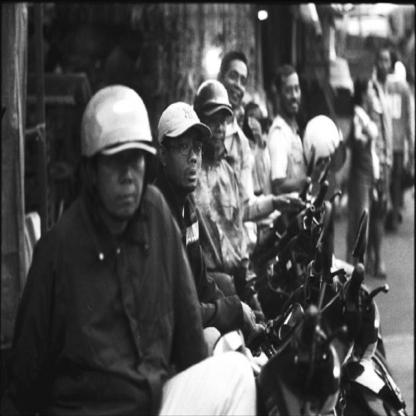Helmet: (78, 89, 154, 220), (304, 109, 343, 170)
